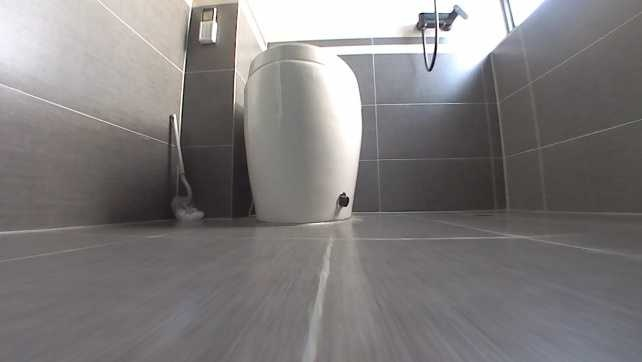toilet: (242, 44, 365, 225)
